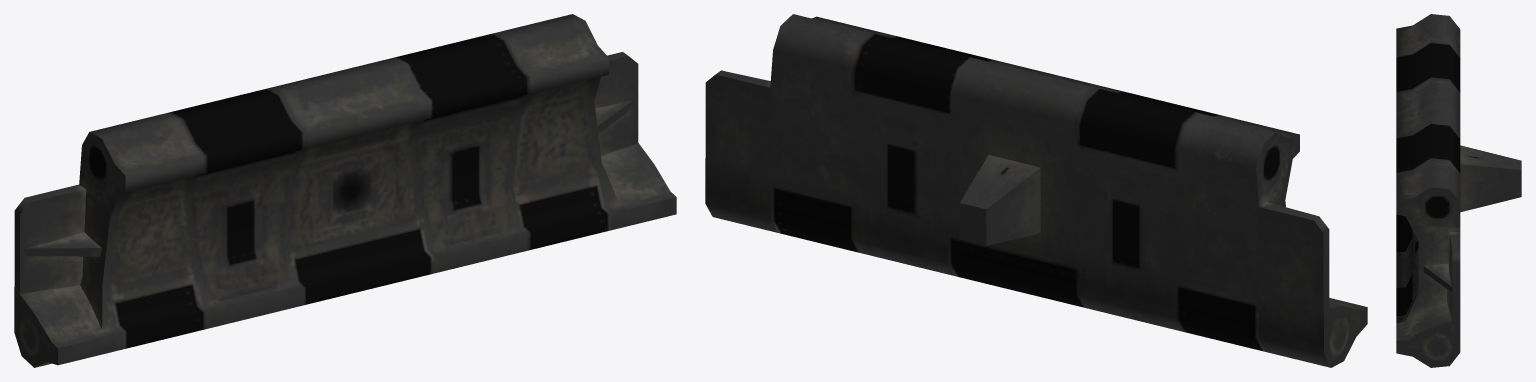
3 views of the same model, side by side, from view 1: azimuth 30°, elevation 25°; view 2: azimuth 150°, elevation 25°; view 3: azimuth 270°, elevation 25° (orthographic). The views are drawn at different scales.
Visible parts, largest first — view 1: set_0_group_0; view 2: set_0_group_0; view 3: set_0_group_0.
Boxes of the visible parts, x1=… form: set_0_group_0: x1=14, y1=14, x2=676, y2=367; set_0_group_0: x1=705, y1=14, x2=1367, y2=367; set_0_group_0: x1=1396, y1=14, x2=1521, y2=367.
Size of the model in its own units: 0.7 by 0.23 by 0.167.
1 material, 1 textured.
